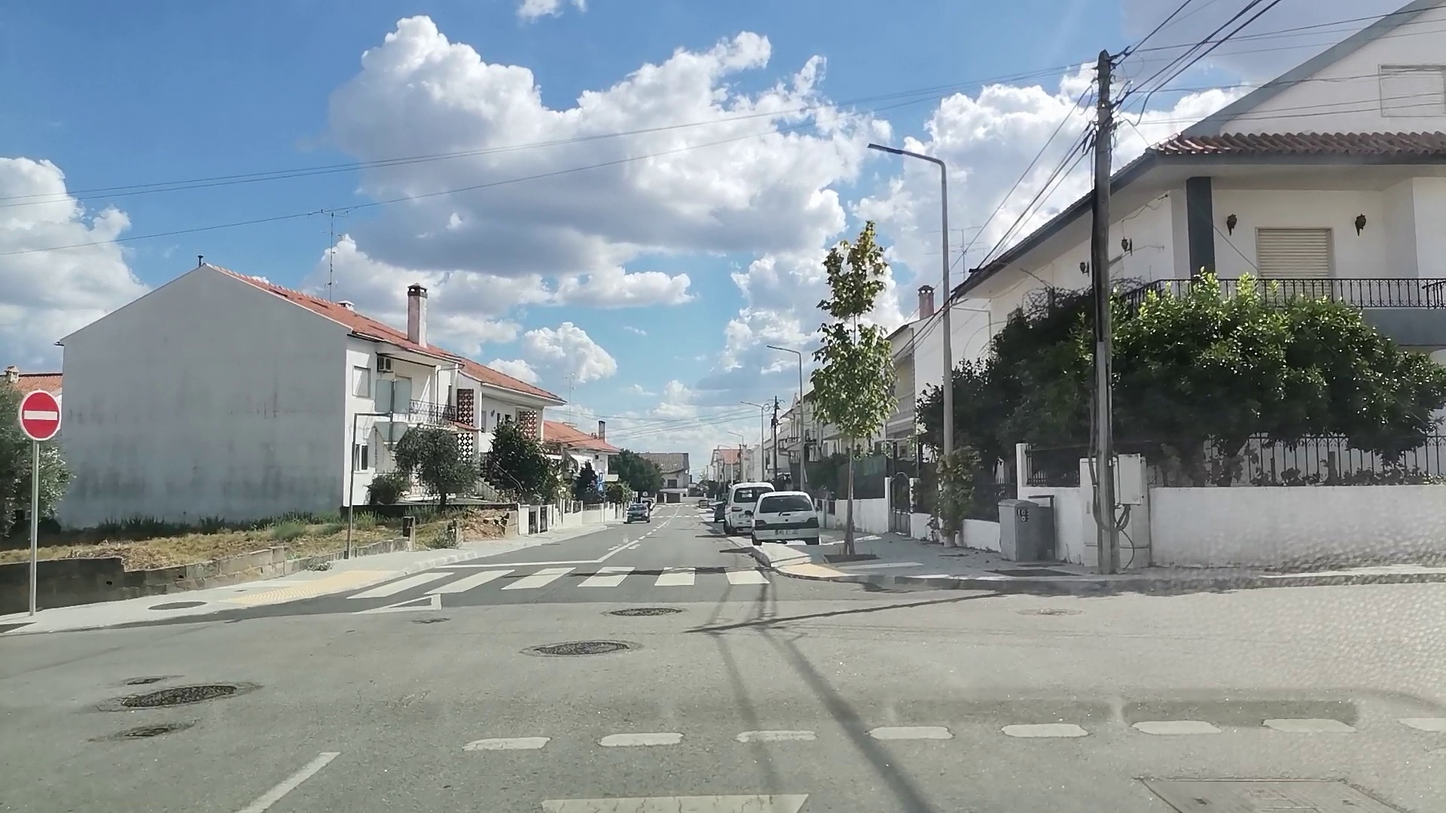Stairs: (347, 567, 771, 598)
